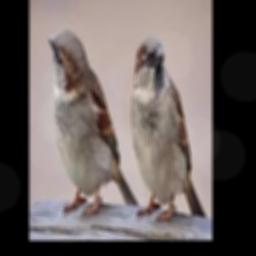Sparrow: (49, 30, 140, 218), (130, 35, 207, 222)
